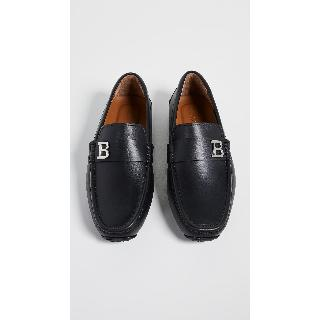loafers: (84, 67, 236, 245)
